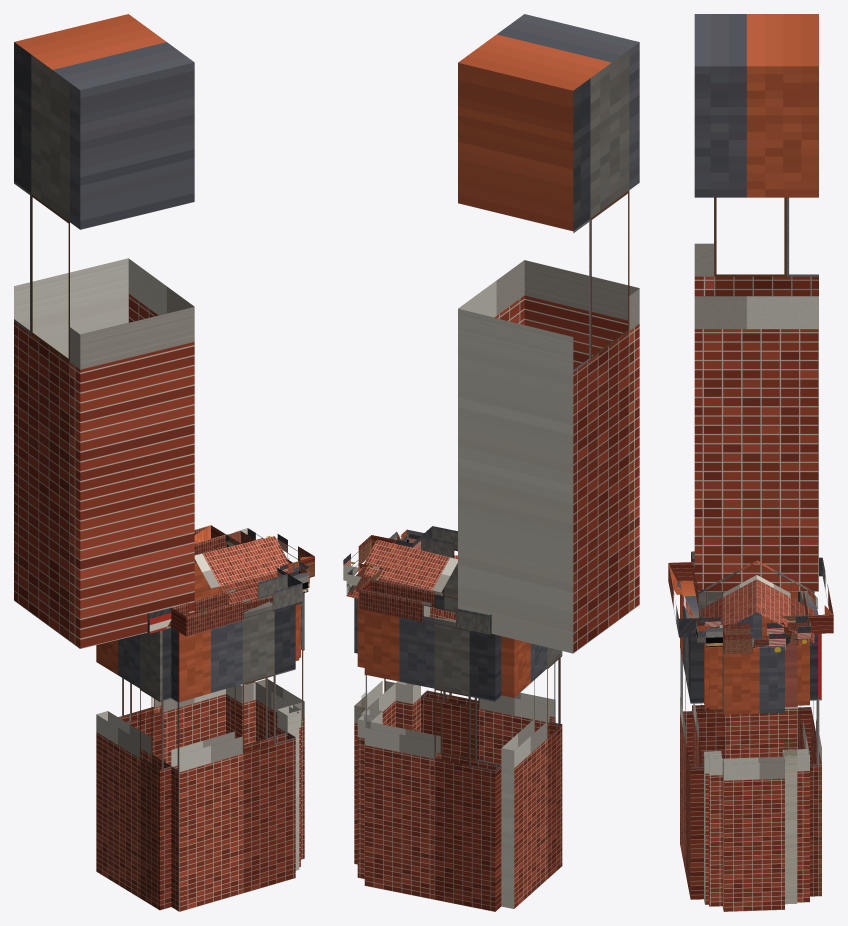
3 views of the same model, side by side, from view 1: azimuth 30°, elevation 25°; view 2: azimuth 150°, elevation 25°; view 3: azimuth 270°, elevation 25° (orthographic). The views are drawn at different scales.
Visible parts, largest first — view 1: 1106973755__chimney_0_xb, 1106973755__wall_6_xb, 1106973755__wall_7_xb, 1106973755__wall_0_xb, 1106973755_roof_-1_xb, 1106973755__cornice_6, 1106973755__wall_3_xb, 1106973755__wall_5_xb, 1106973755__wall_1_xb, 1106973755__cornice_0; view 2: 1106973755__chimney_0_xb, 1106973755__wall_0_xb, 1106973755__wall_7_xb, 1106973755__wall_6_xb, 1106973755__cornice_0, 1106973755_roof_1_xb, 1106973755__wall_3_xb, 1106973755__wall_1_xb, 1106973755__cornice_6, 1106973755__wall_4_xb, 1106973755__cornice_3; view 3: 1106973755__chimney_0_xb, 1106973755__wall_3_xb, 1106973755__wall_6_xb, 1106973755__wall_7_xb, 1106973755__wall_0_xb, 1106973755__wall_4_xb, 1106973755__wall_2_xb, 1106973755__wall_1_xb, 1106973755_roof_-1_xb, 1106973755_roof_1_xb, 1106973755__cornice_3, 1106973755__cornice_6 (+5 smaller).
Part boxes in pixels (<box>): 1106973755__chimney_0_xb: <box>14,14,194,648</box>; 1106973755__wall_6_xb: <box>171,600,295,911</box>; 1106973755__wall_7_xb: <box>96,627,171,910</box>; 1106973755__wall_0_xb: <box>118,563,225,765</box>; 1106973755_roof_-1_xb: <box>194,536,304,604</box>; 1106973755__cornice_6: <box>171,574,302,636</box>; 1106973755__wall_3_xb: <box>255,593,304,859</box>; 1106973755__wall_5_xb: <box>277,604,299,870</box>; 1106973755__wall_1_xb: <box>226,682,253,744</box>; 1106973755__cornice_0: <box>194,525,225,563</box>; 1106973755__chimney_0_xb: <box>458,14,639,653</box>; 1106973755__wall_0_xb: <box>364,610,501,911</box>; 1106973755__wall_7_xb: <box>501,636,562,908</box>; 1106973755__wall_6_xb: <box>421,563,555,764</box>; 1106973755__cornice_0: <box>359,579,491,635</box>; 1106973755_roof_1_xb: <box>346,539,457,622</box>; 1106973755__wall_3_xb: <box>354,598,395,864</box>; 1106973755__wall_1_xb: <box>357,599,376,878</box>; 1106973755__cornice_6: <box>421,526,457,559</box>; 1106973755__wall_4_xb: <box>395,681,414,730</box>; 1106973755__cornice_3: <box>343,535,395,580</box>; 1106973755__chimney_0_xb: <box>694,14,818,591</box>; 1106973755__wall_3_xb: <box>722,645,784,911</box>; 1106973755__wall_6_xb: <box>680,580,703,899</box>; 1106973755__wall_7_xb: <box>692,591,797,766</box>; 1106973755__wall_0_xb: <box>798,591,821,896</box>; 1106973755__wall_4_xb: <box>708,643,722,906</box>; 1106973755__wall_2_xb: <box>783,641,797,904</box>; 1106973755__wall_1_xb: <box>782,640,809,902</box>; 1106973755_roof_-1_xb: <box>699,560,756,629</box>; 1106973755_roof_1_xb: <box>757,560,814,643</box>; 1106973755__cornice_3: <box>722,623,785,654</box>; 1106973755__cornice_6: <box>668,562,703,637</box>.
Size of the model in its own units: 0.3284 by 1.05 by 0.1995.
1 material, 1 textured.
